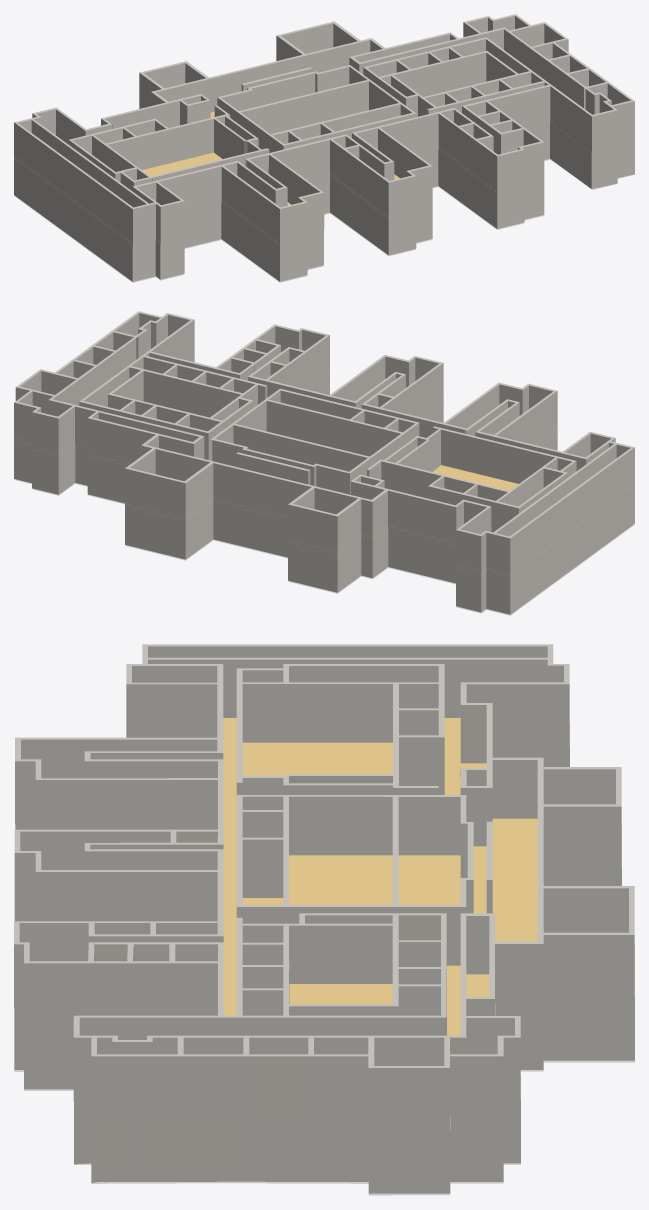
File: Våning1.glb
3 views of the same model, one above another, from view 1: azimuth 30°, elevation 25°; view 2: azimuth 150°, elevation 25°; view 3: azimuth 270°, elevation 25° (orthographic). The views are drawn at different scales.
Parts seen in each view (by area): view 1: Plane.002, Plane, Plane.001, Plane.003; view 2: Plane.002, Plane, Plane.001, Plane.003; view 3: Plane.002, Plane, Plane.003, Plane.001.
Boxes of the visible parts, box(x1,y1,x2,y2) form: Plane.002: box(14, 14, 634, 245); Plane: box(14, 122, 634, 281); Plane.001: box(14, 159, 634, 282); Plane.003: box(70, 111, 399, 219); Plane.002: box(14, 311, 634, 576); Plane: box(14, 358, 634, 614); Plane.001: box(14, 479, 634, 615); Plane.003: box(198, 407, 632, 569); Plane.002: box(14, 644, 634, 1130); Plane: box(14, 743, 634, 1193); Plane.003: box(223, 718, 634, 1125); Plane.001: box(14, 1060, 634, 1195).
Bounding box in the file's own units: 346 × 48.56 × 214.
